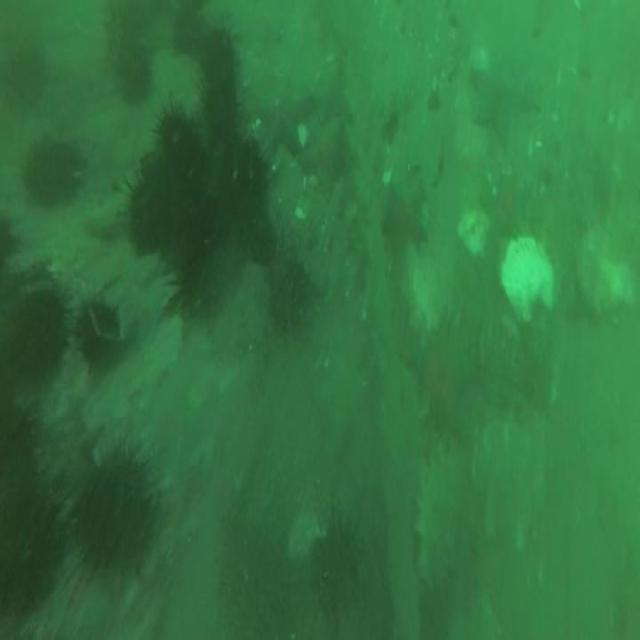echinus: (76, 462, 156, 578), (312, 528, 381, 640), (3, 291, 63, 387), (0, 520, 52, 616), (167, 175, 220, 262), (24, 136, 84, 204), (186, 237, 238, 313), (212, 147, 265, 220), (124, 185, 170, 259), (267, 255, 309, 327), (157, 112, 200, 176), (110, 47, 153, 109), (2, 49, 42, 114), (2, 457, 36, 531), (77, 305, 121, 362), (199, 30, 236, 87), (204, 79, 238, 133), (169, 11, 193, 55), (247, 226, 279, 258)
holothurian: (414, 440, 460, 590)
scallop: (472, 420, 540, 555), (500, 232, 556, 316), (294, 201, 308, 223)
starfish: (410, 319, 474, 438), (468, 56, 538, 142), (257, 79, 310, 156), (381, 174, 427, 256), (479, 171, 530, 240), (306, 114, 346, 186)
